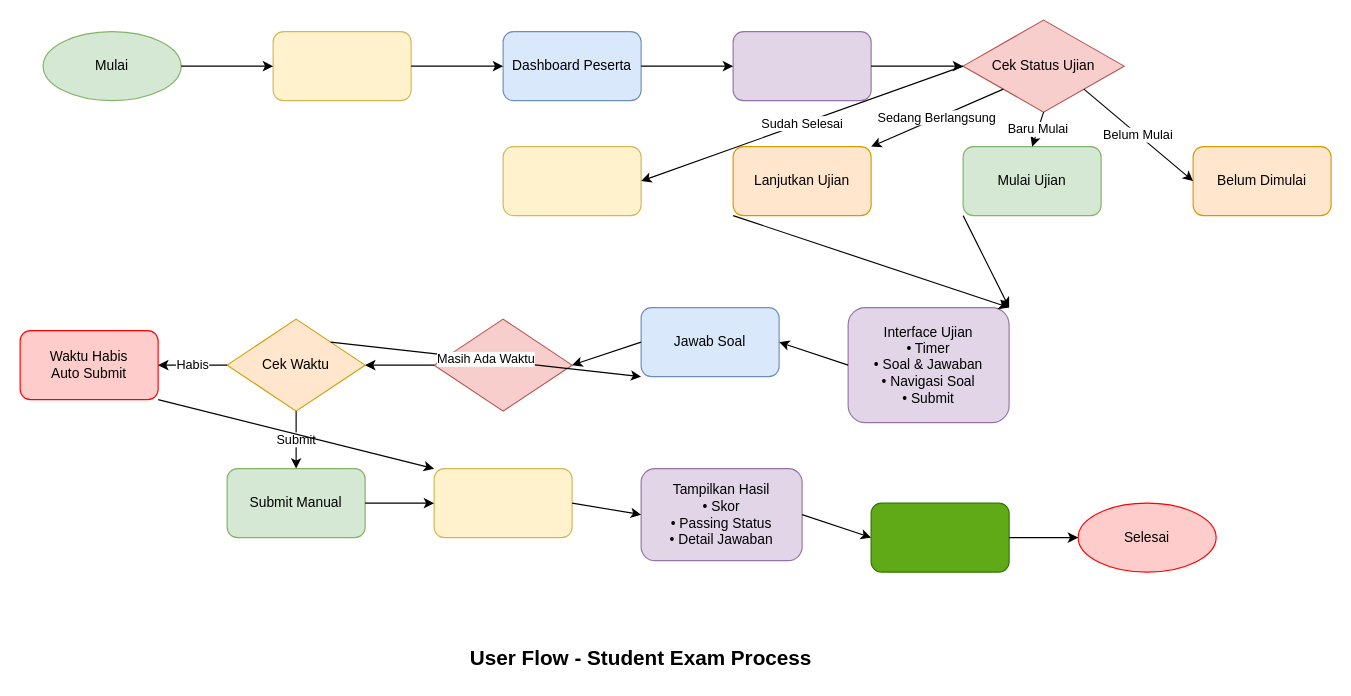
The diagram is 1351 pixels wide and 696 high, and some of its shapes have lost their labels. Each missing label, with the centre of its shape:
Hitung Skor (Weighted Scoring): the point at 502,502
Lihat Hasil: the point at 571,180
Login Peserta: the point at 341,65
Navigasi Soal: the point at 502,364
Pilih Ujian: the point at 801,65
Simpan ke Database: the point at 939,537
